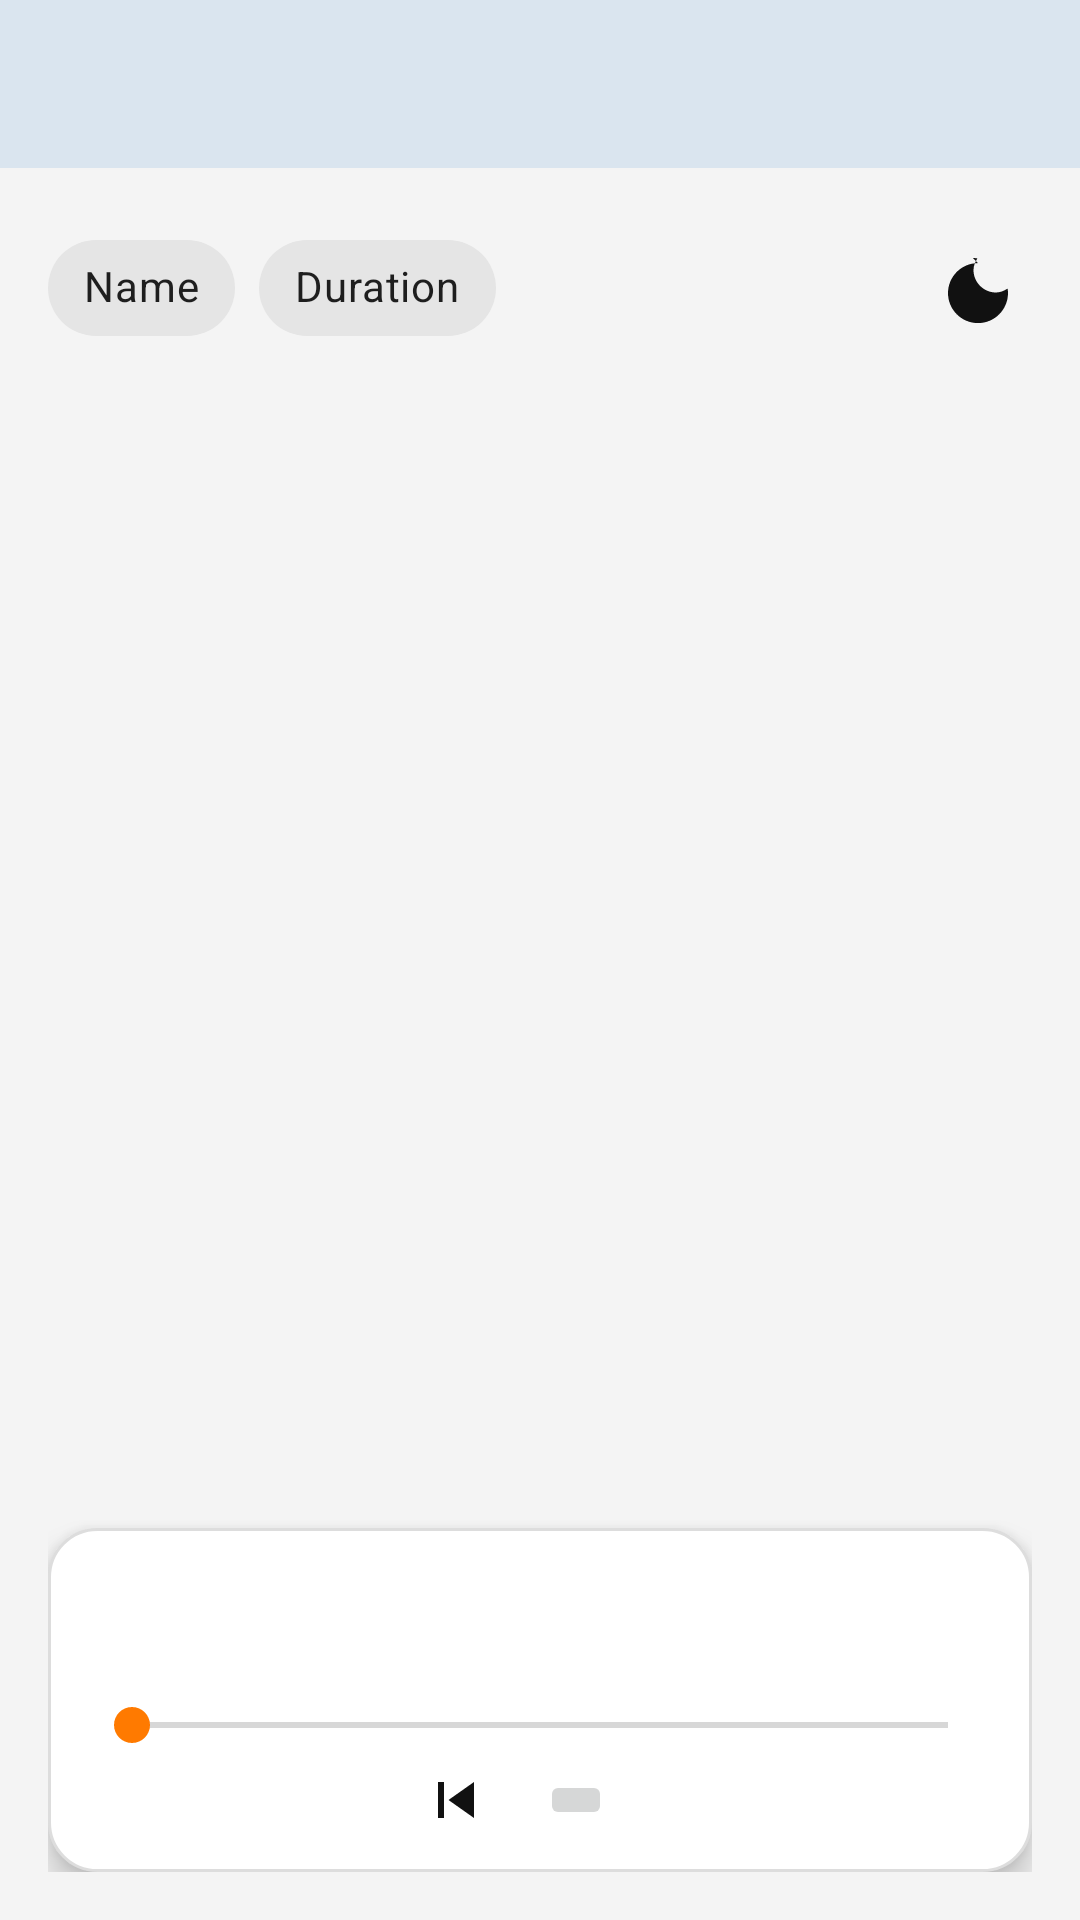

Screen size 1080×1920. Icon name, then its center in pixels as (x=x, y=y):
Previous: (x=456, y=1800)
Toggle theme: (x=978, y=290)
